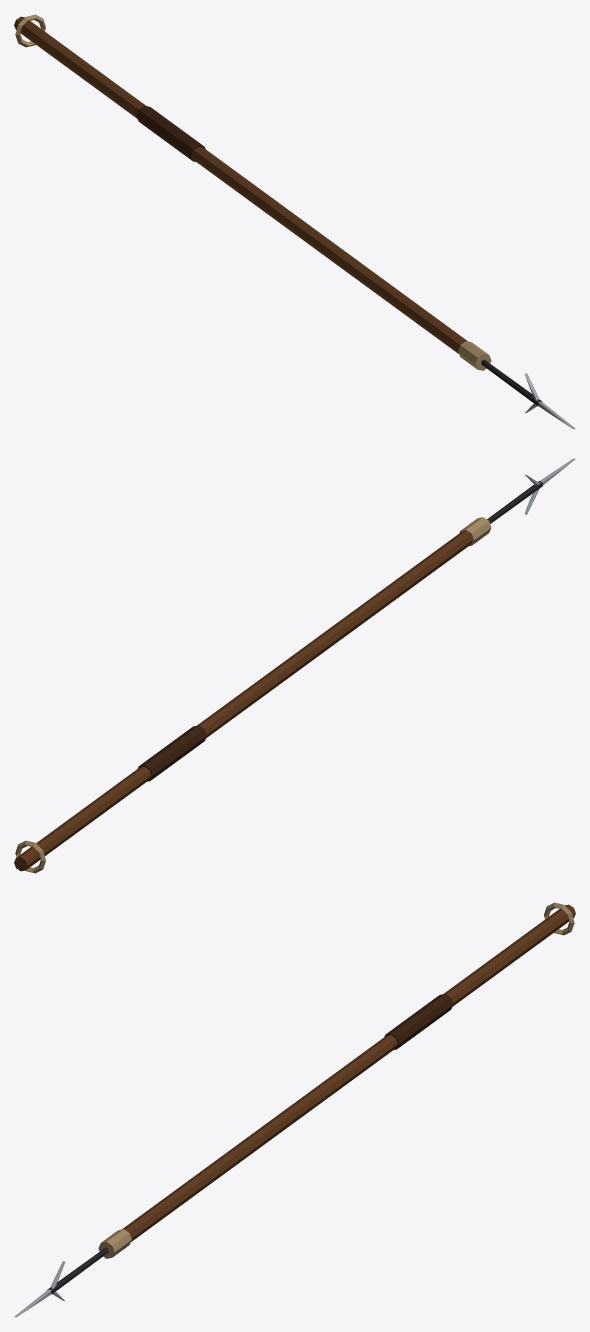
File: harpoon.glb
The picture shows the model from 3 angles, top to bottom: view 1: azimuth 30°, elevation 25°; view 2: azimuth 150°, elevation 25°; view 3: azimuth 330°, elevation 25°; orthographic projection.
Visible parts, largest first — view 1: harpoon; view 2: harpoon; view 3: harpoon.
Boxes of the visible parts, bbox=[...] form: harpoon: bbox=[14, 14, 575, 429]; harpoon: bbox=[14, 458, 575, 873]; harpoon: bbox=[14, 902, 575, 1317].
Size of the model in its own units: 0.072 by 0.0888 by 2.24.
